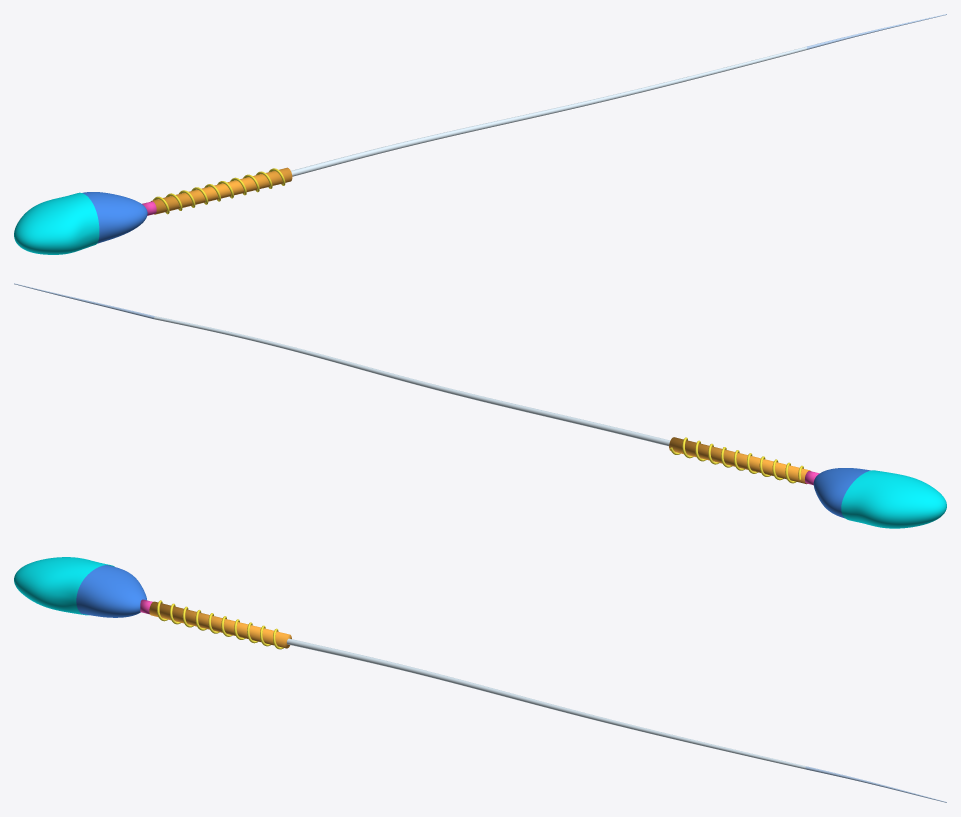
The model's file is 07_Cabeza_amorfa.glb.
The picture shows the model from 3 angles, top to bottom: view 1: azimuth 30°, elevation 25°; view 2: azimuth 150°, elevation 25°; view 3: azimuth 330°, elevation 25°; orthographic projection.
Visible parts, largest first — view 1: Cubierta_acrosomal_amorfa, Cola_pieza_principal.001, Cabeza_nucleo_amorfa, Pieza_intermedia.001, Helice_mitocondrial_didactica.001; view 2: Cubierta_acrosomal_amorfa, Cola_pieza_principal.001, Pieza_intermedia.001, Cabeza_nucleo_amorfa, Helice_mitocondrial_didactica.001; view 3: Cubierta_acrosomal_amorfa, Cola_pieza_principal.001, Cabeza_nucleo_amorfa, Pieza_intermedia.001, Helice_mitocondrial_didactica.001.
Part boxes in pixels (box(x1,y1,x2,y2)): Cubierta_acrosomal_amorfa: box(14, 192, 99, 254); Cola_pieza_principal.001: box(291, 47, 807, 176); Cabeza_nucleo_amorfa: box(82, 192, 147, 243); Pieza_intermedia.001: box(151, 167, 292, 214); Helice_mitocondrial_didactica.001: box(153, 168, 285, 214); Cubierta_acrosomal_amorfa: box(841, 470, 946, 528); Cola_pieza_principal.001: box(154, 316, 670, 446); Pieza_intermedia.001: box(669, 437, 810, 484); Cabeza_nucleo_amorfa: box(813, 468, 870, 518); Helice_mitocondrial_didactica.001: box(670, 437, 803, 483); Cubierta_acrosomal_amorfa: box(14, 557, 114, 615); Cola_pieza_principal.001: box(286, 638, 805, 769); Cabeza_nucleo_amorfa: box(76, 565, 146, 617); Pieza_intermedia.001: box(149, 601, 291, 648); Helice_mitocondrial_didactica.001: box(157, 600, 283, 649).
Bounding box in the file's own units: 62.85 × 2.94 × 4.61.
